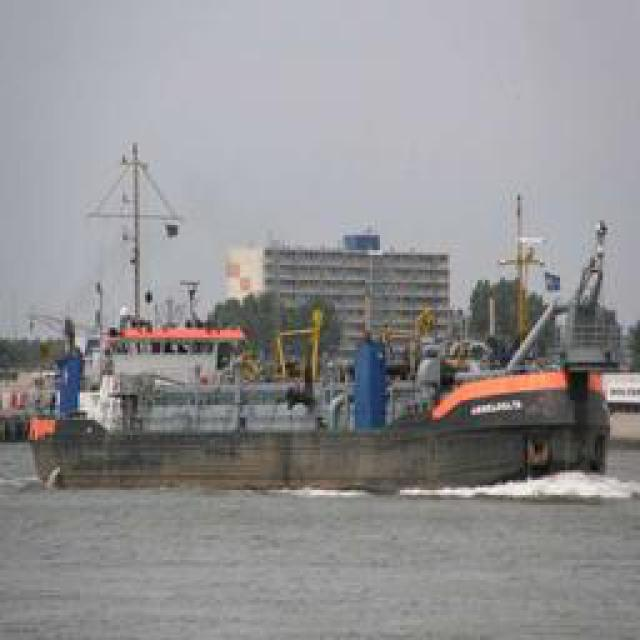Ship: (26, 194, 628, 498)
